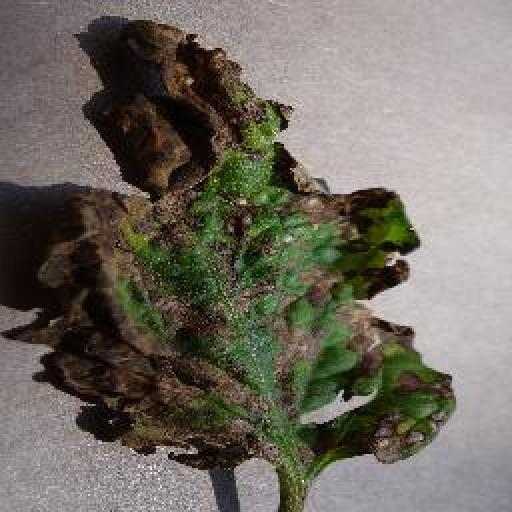Early Blight: (38, 20, 456, 469)
